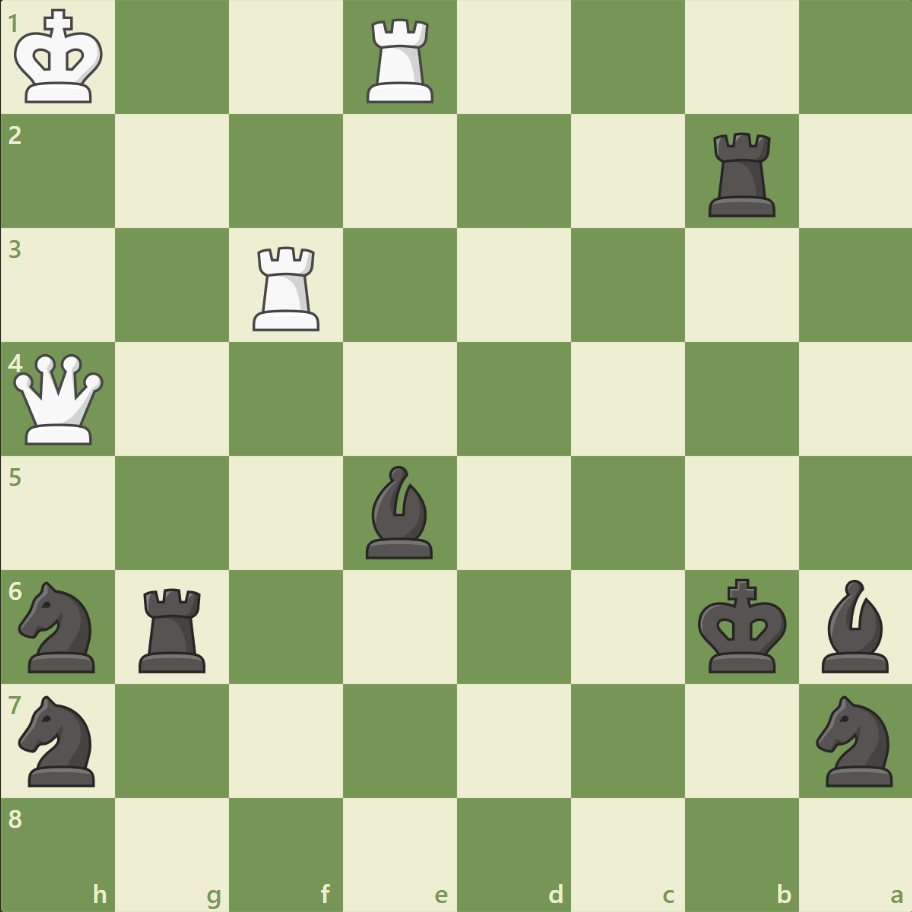K: (11, 4, 111, 112)
Q: (10, 349, 109, 449)
R: (246, 239, 329, 336), (360, 12, 442, 109)
b: (358, 460, 442, 563), (812, 574, 896, 676)
k: (692, 571, 792, 679)
n: (806, 688, 903, 791), (11, 688, 108, 791), (11, 575, 108, 677)
r: (700, 125, 783, 222), (133, 579, 215, 676)
